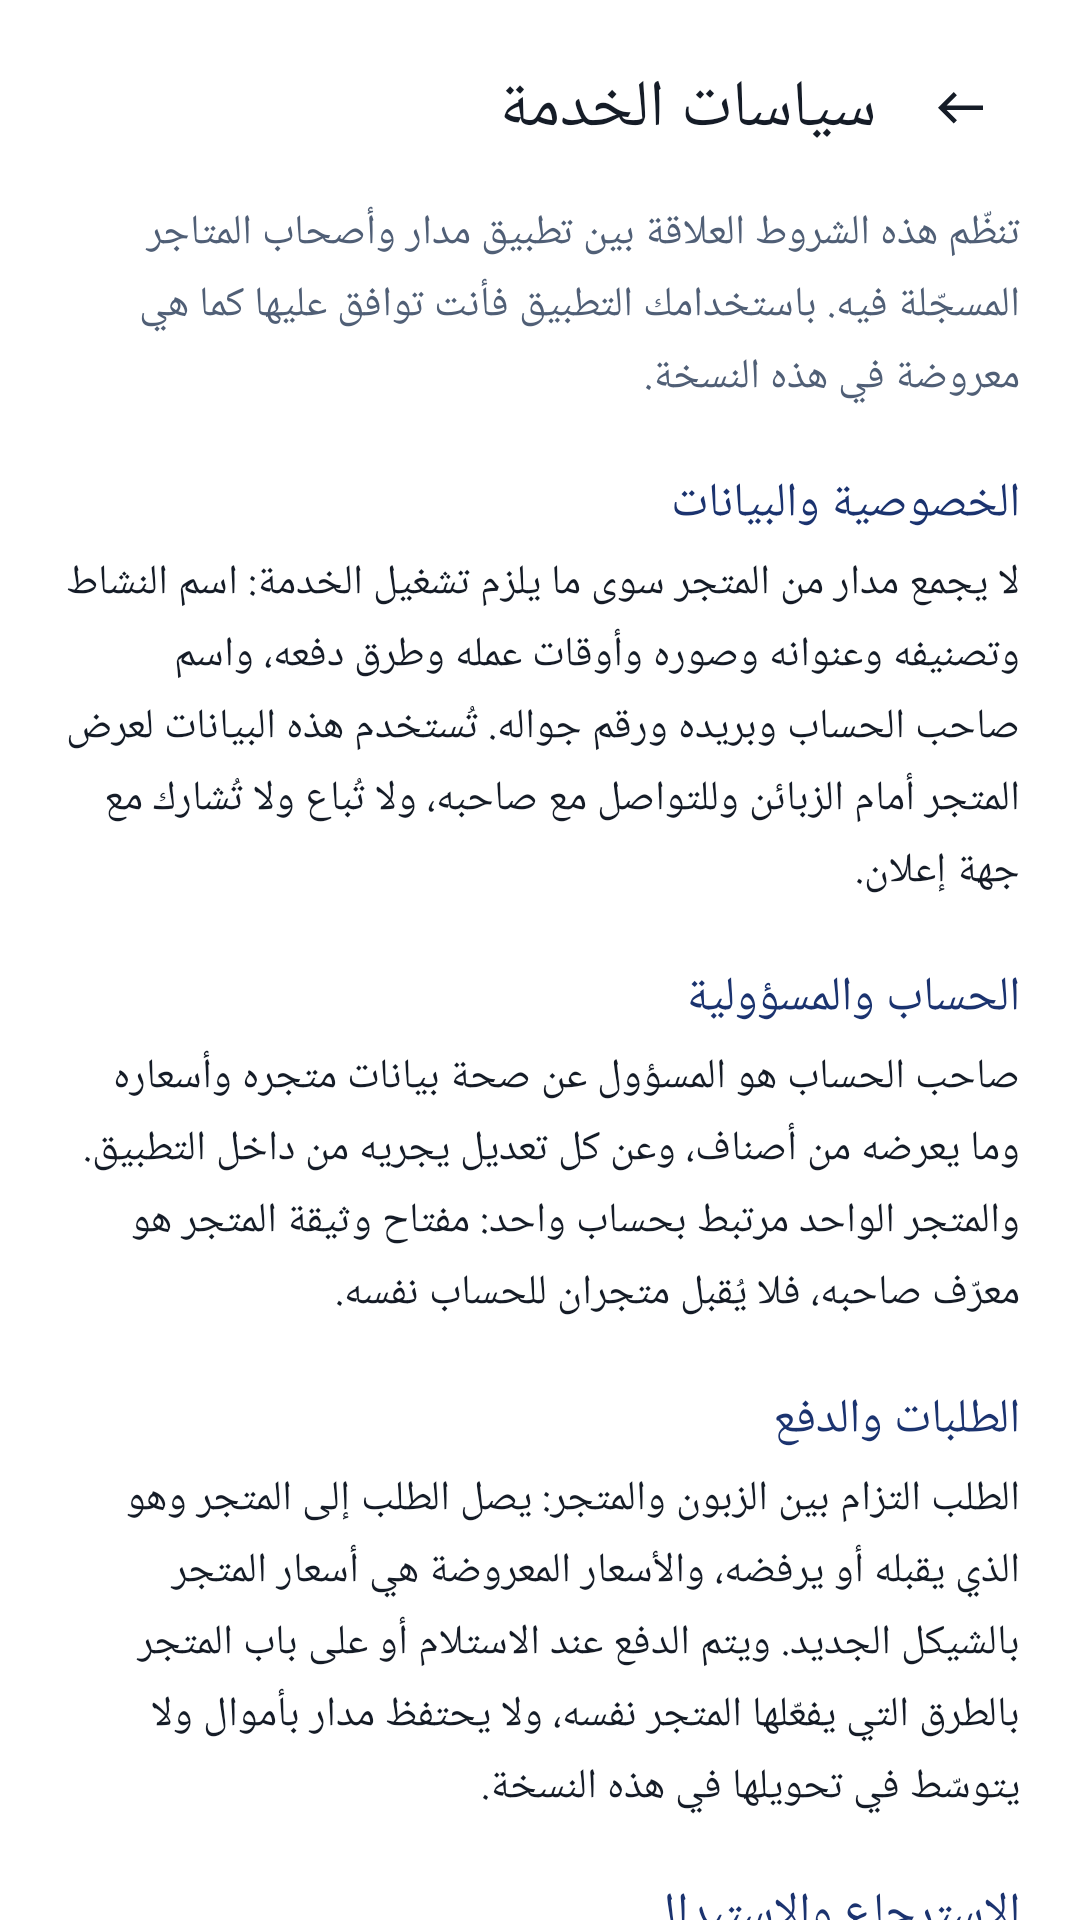

Where to tap for icons on this 1080px×1920px app screen, as (x=x, y=y):
رجوع: (x=960, y=108)
